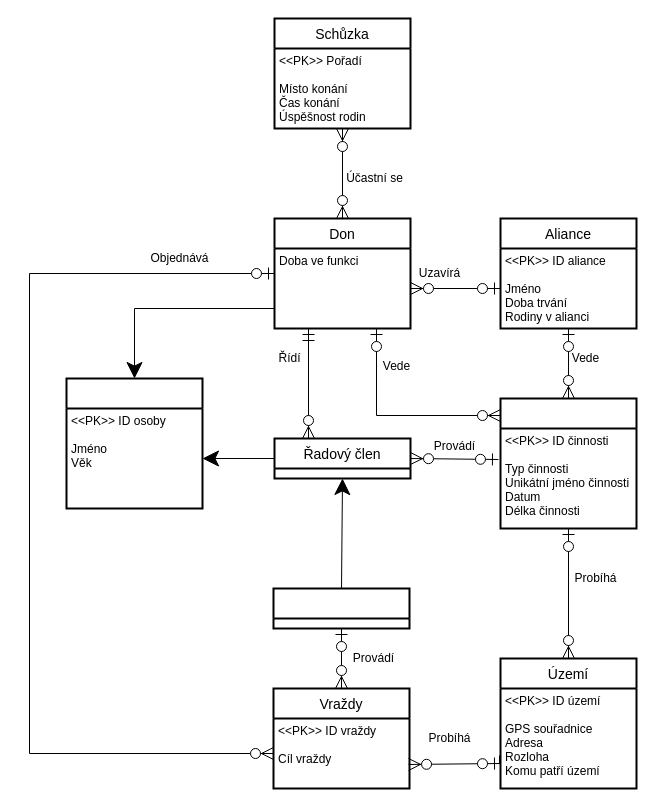
Image size: 655x806. Some labels were removed from this diagram. Each missing label, with the box of its shape:
Kriminální činnost: (499, 397, 637, 529)
Osoba: (65, 377, 203, 509)
Zkušený člen: (272, 587, 410, 629)
